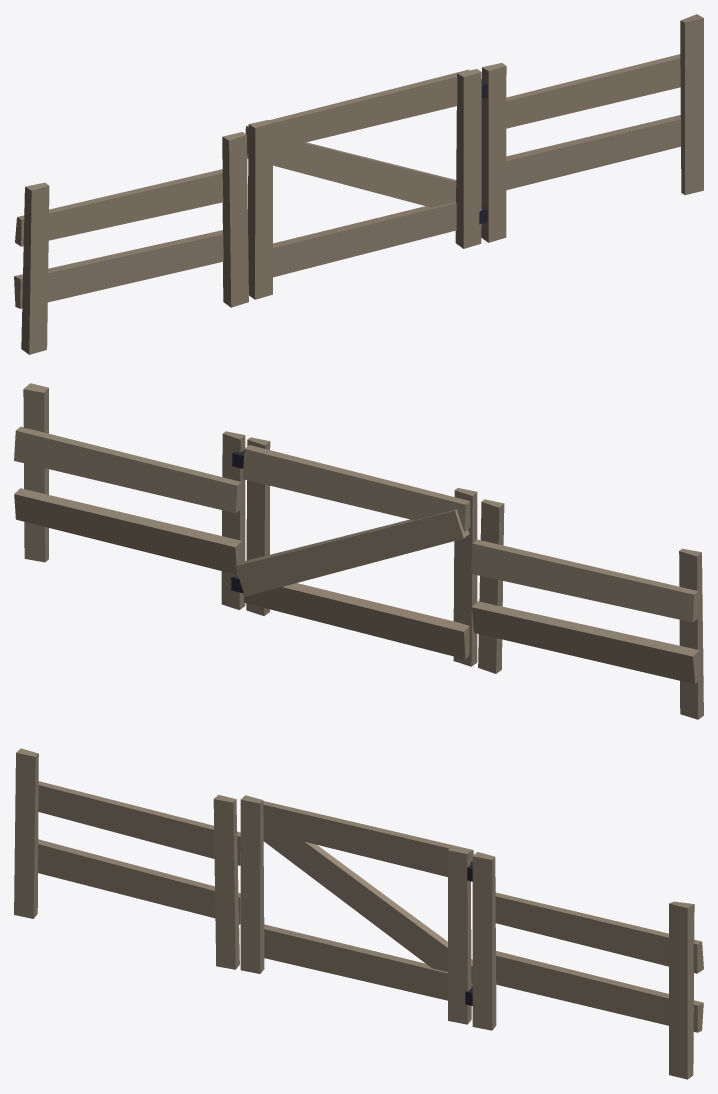
File: fenceBGate.glb
3 views of the same model, one above another, from view 1: azimuth 30°, elevation 25°; view 2: azimuth 150°, elevation 25°; view 3: azimuth 330°, elevation 25° (orthographic).
Parts seen in each view (by area): view 1: TheRestOfGate, PostRight, PostLEft; view 2: TheRestOfGate, PostLEft, PostRight; view 3: TheRestOfGate, PostLEft, PostRight.
Part boxes in pixels (x1,y1,x2,y2): TheRestOfGate: (14,54,680,308); PostRight: (21,182,49,354); PostLEft: (680,14,703,195); TheRestOfGate: (14,426,699,684); PostLEft: (23,383,48,562); PostRight: (679,548,703,719); TheRestOfGate: (38,781,703,1032); PostLEft: (669,901,694,1079); PostRight: (14,748,38,918).
Size of the model in its own units: 12.63 by 3.08 by 0.5074.
